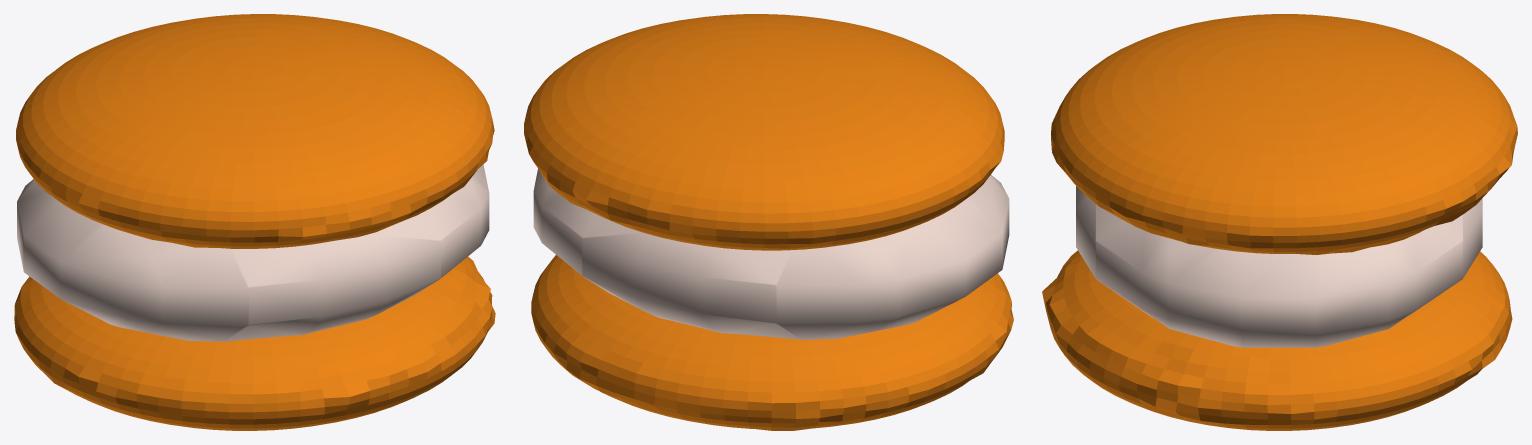
File: macronYellow.fbx
3 renders of one model, left to right at view 1: azimuth 30°, elevation 25°; view 2: azimuth 150°, elevation 25°; view 3: azimuth 270°, elevation 25°, orthographic.
Visible parts, largest first — view 1: Sphere.001, Sphere, Mball; view 2: Sphere.001, Sphere, Mball; view 3: Sphere.001, Sphere, Mball.
Part boxes in pixels (bbox=[...]): Sphere.001: bbox=[16, 14, 494, 248]; Sphere: bbox=[14, 256, 495, 430]; Mball: bbox=[17, 164, 489, 341]; Sphere.001: bbox=[524, 14, 1004, 250]; Sphere: bbox=[531, 255, 1013, 430]; Mball: bbox=[533, 168, 1009, 339]; Sphere.001: bbox=[1051, 14, 1517, 254]; Sphere: bbox=[1042, 250, 1512, 430]; Mball: bbox=[1076, 186, 1482, 347].
Size of the model in its own units: 5.29 by 3.65 by 5.14.
